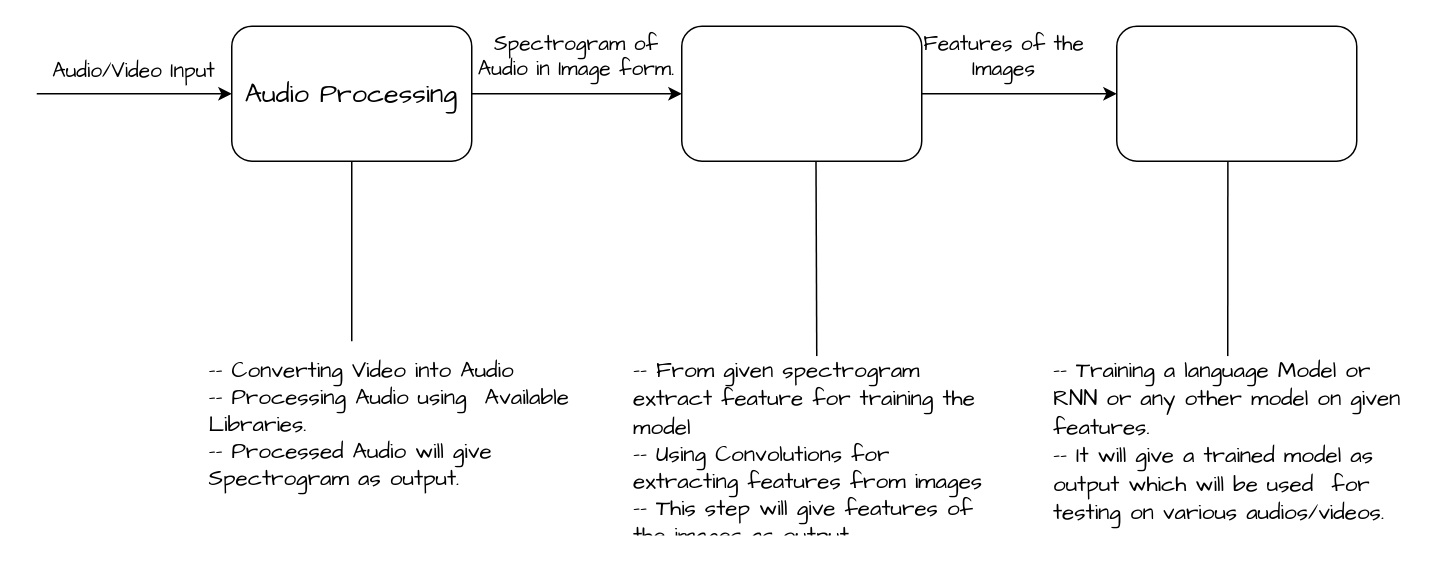
Image size: 1454x576. Some labels were removed from this diagram. The centre of each missing label's shape, as x and y in pixels:
Extract features from Image: pixel 801 93
Train Model on given features: pixel 1236 93
